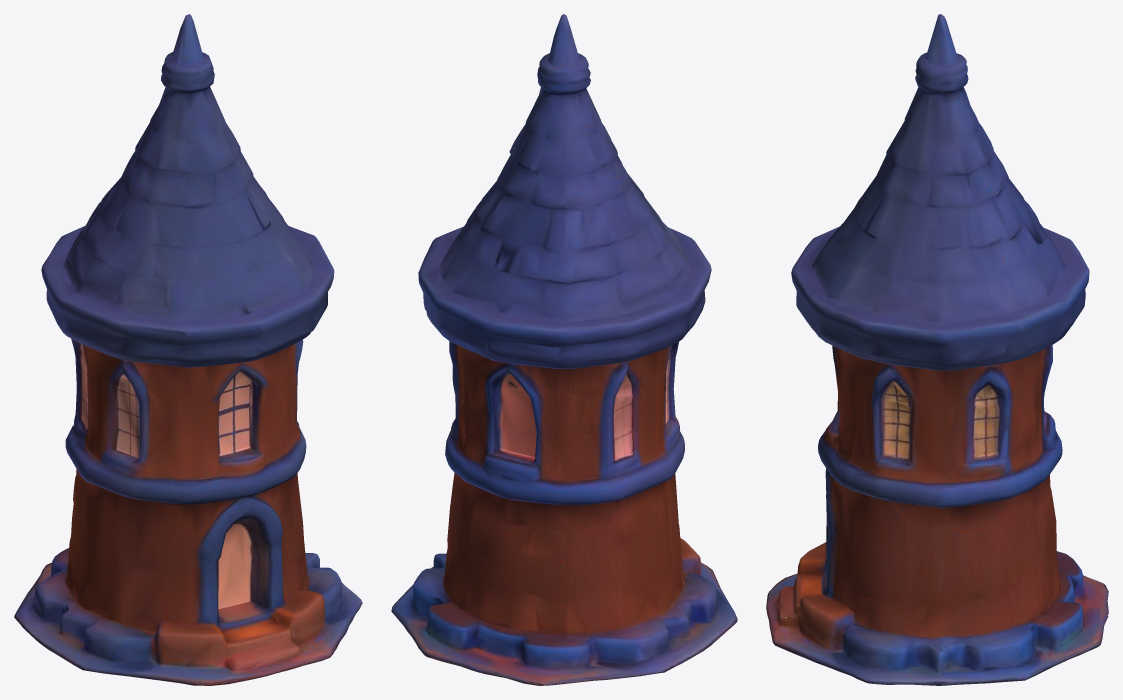
Rendered from building_turm.glb.
The picture shows the model from 3 angles, left to right: view 1: azimuth 30°, elevation 25°; view 2: azimuth 150°, elevation 25°; view 3: azimuth 270°, elevation 25°; orthographic projection.
Visible parts, largest first — view 1: Mesh_0; view 2: Mesh_0; view 3: Mesh_0.
Boxes of the visible parts, <box> form: Mesh_0: <box>14,14,362,685</box>; Mesh_0: <box>391,14,737,685</box>; Mesh_0: <box>766,14,1108,685</box>.
Bounding box in the file's own units: 4.29 × 8.5 × 4.38.
1 material, 1 textured.
